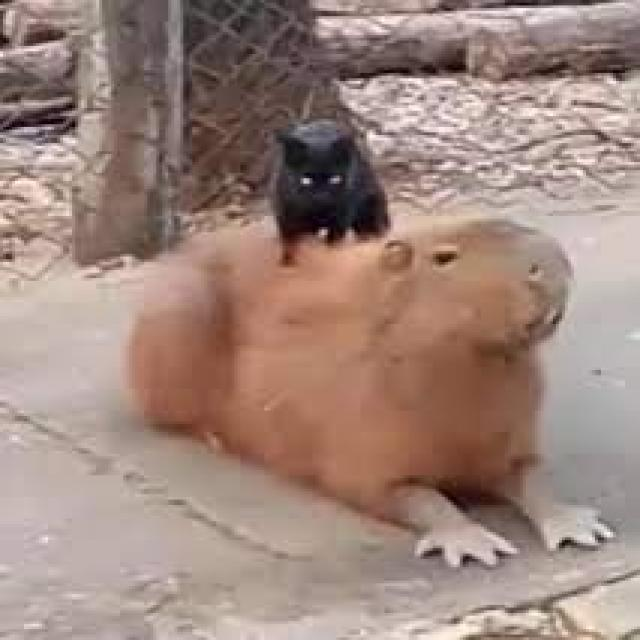capy: (114, 212, 616, 570)
